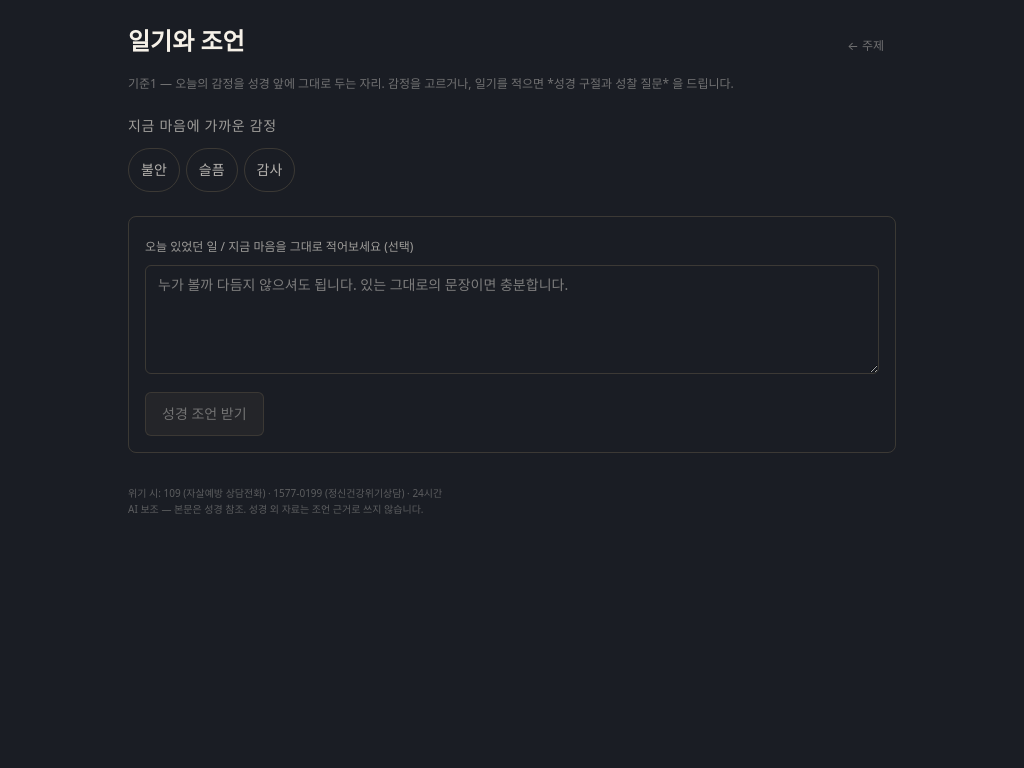
it: /topics/journal — AI 라벨링 (4-layer 안전선 3번) › 위기 라우팅 화면에서도 AI 라벨이 사라지지 않는다
Type "너무 힘들어요" into the text box at (512, 320), box [145,265,879,374]
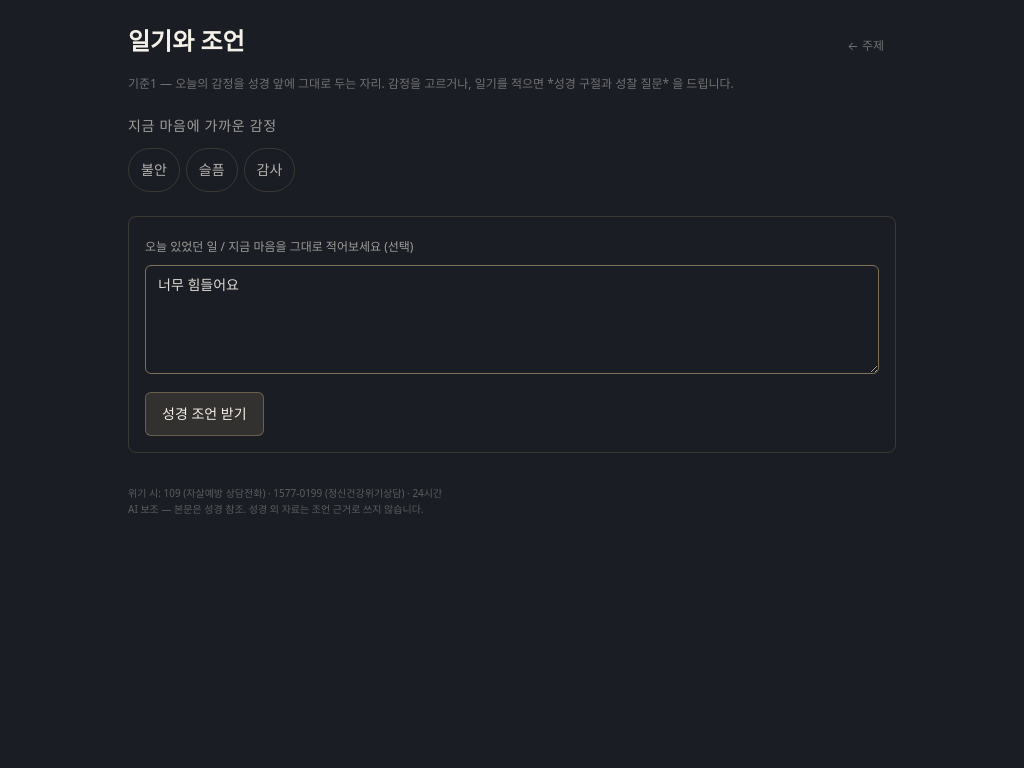
Click the button "성경 조언 받기" at (204, 414), box [145,392,264,436]
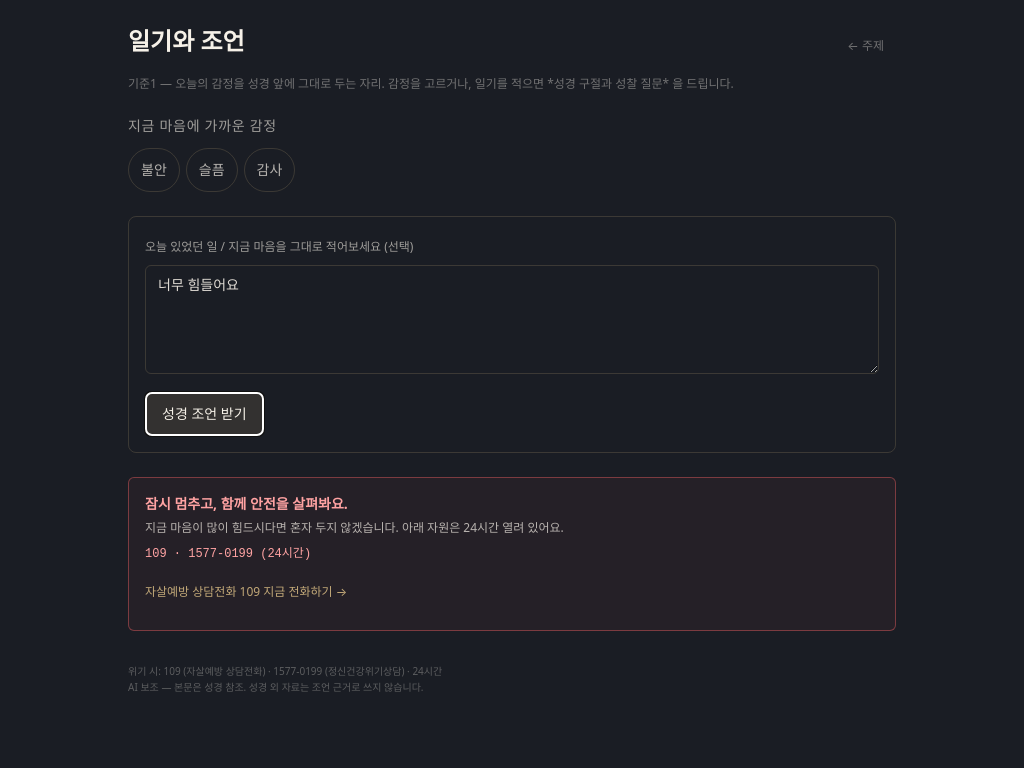
Expected: the text "AI 보조" is shown, [128,680,424,694]
Expected: the text "잠시 멈추고, 함께 안전을 살펴봐요." is shown, [145,494,348,513]
